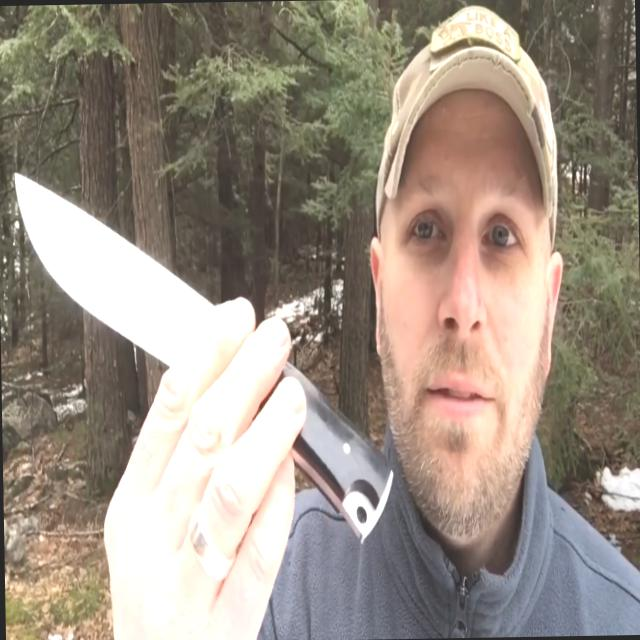knife: (9, 162, 293, 496)
